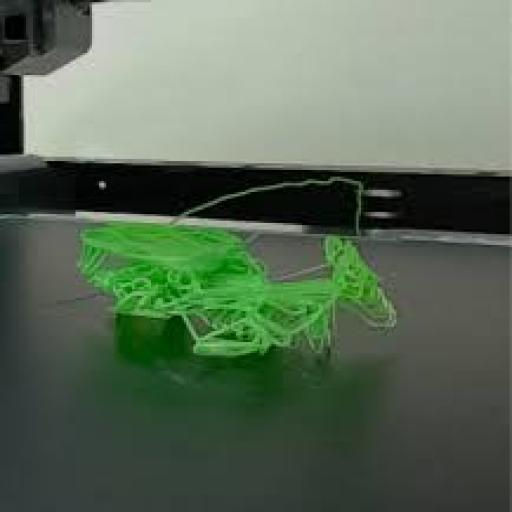spaghetti: (75, 179, 394, 400)
